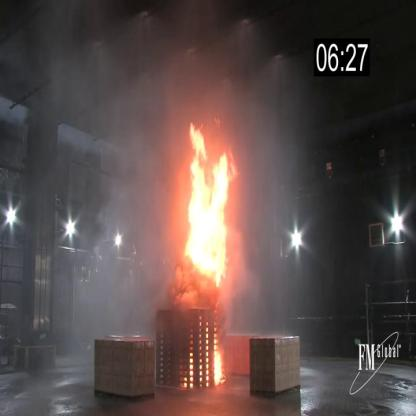fire: (184, 120, 233, 296), (214, 349, 223, 387)
